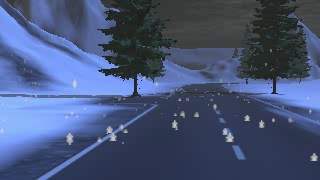Lane: (43, 82, 319, 178)
